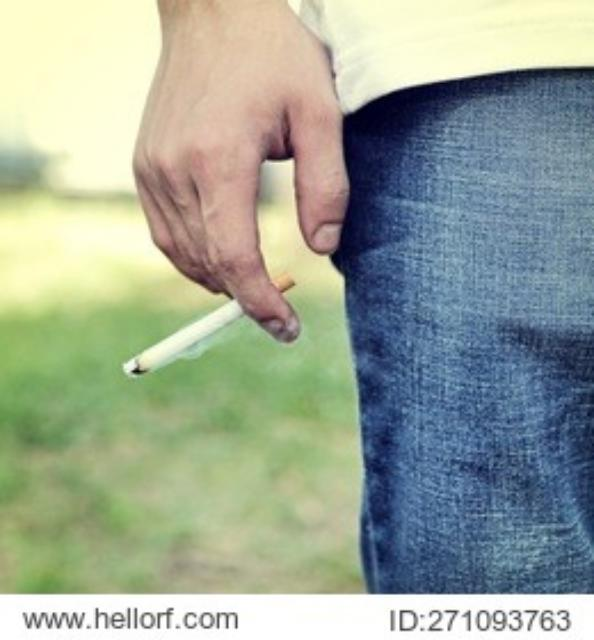Cigarette: (107, 264, 305, 384)
